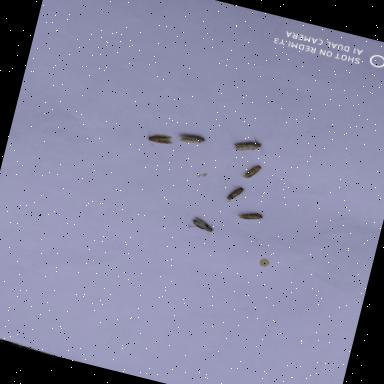pbw: (138, 122, 182, 154), (179, 208, 223, 238), (232, 130, 272, 162), (217, 178, 249, 210), (174, 127, 212, 151), (236, 157, 266, 187), (231, 204, 268, 226)
